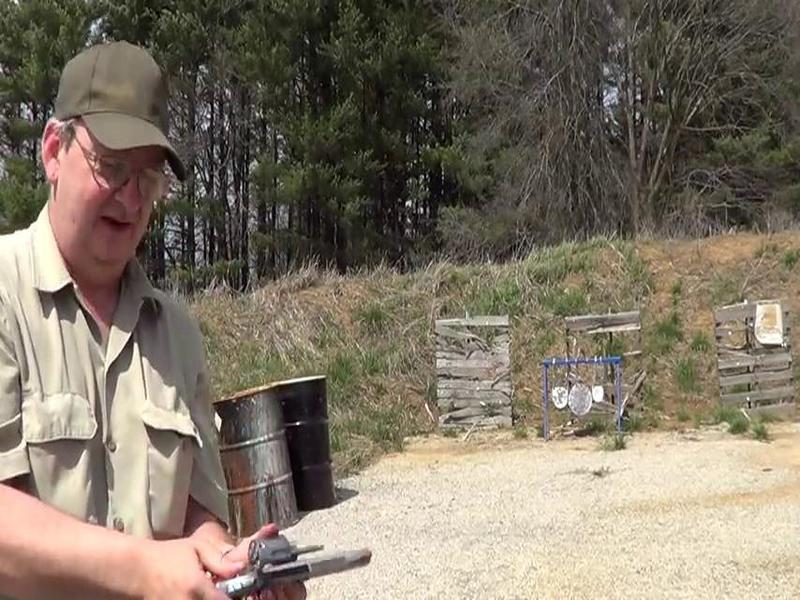Revolver: (179, 521, 388, 600)
